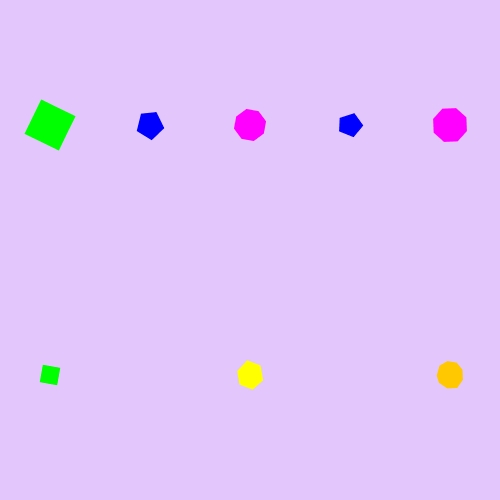hexagon: (231, 359, 269, 391)
nonagon: (432, 358, 468, 393)
octagon: (428, 103, 472, 147), (230, 105, 271, 146)
pentagon: (133, 108, 168, 143), (334, 109, 366, 141)
quadrilateral: (20, 95, 80, 155), (34, 359, 67, 392)
